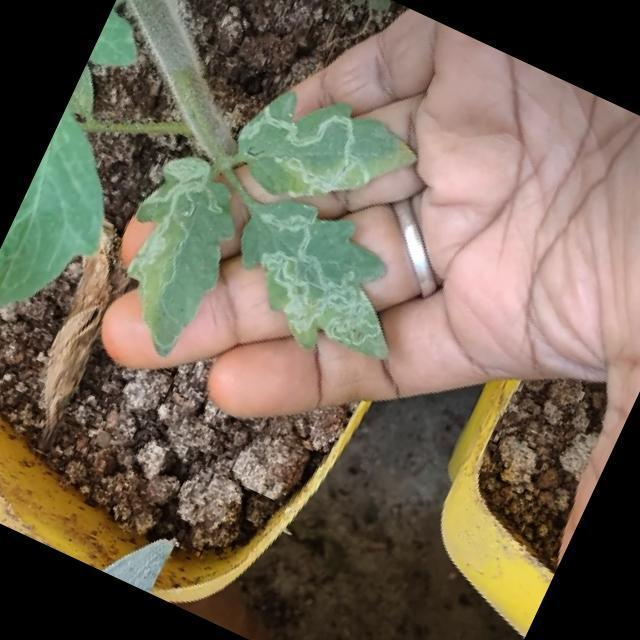Tomato healthy leaf: (0, 104, 145, 347)
Tomato target spot leaf: (208, 181, 434, 387), (83, 146, 260, 364), (218, 66, 426, 246)
